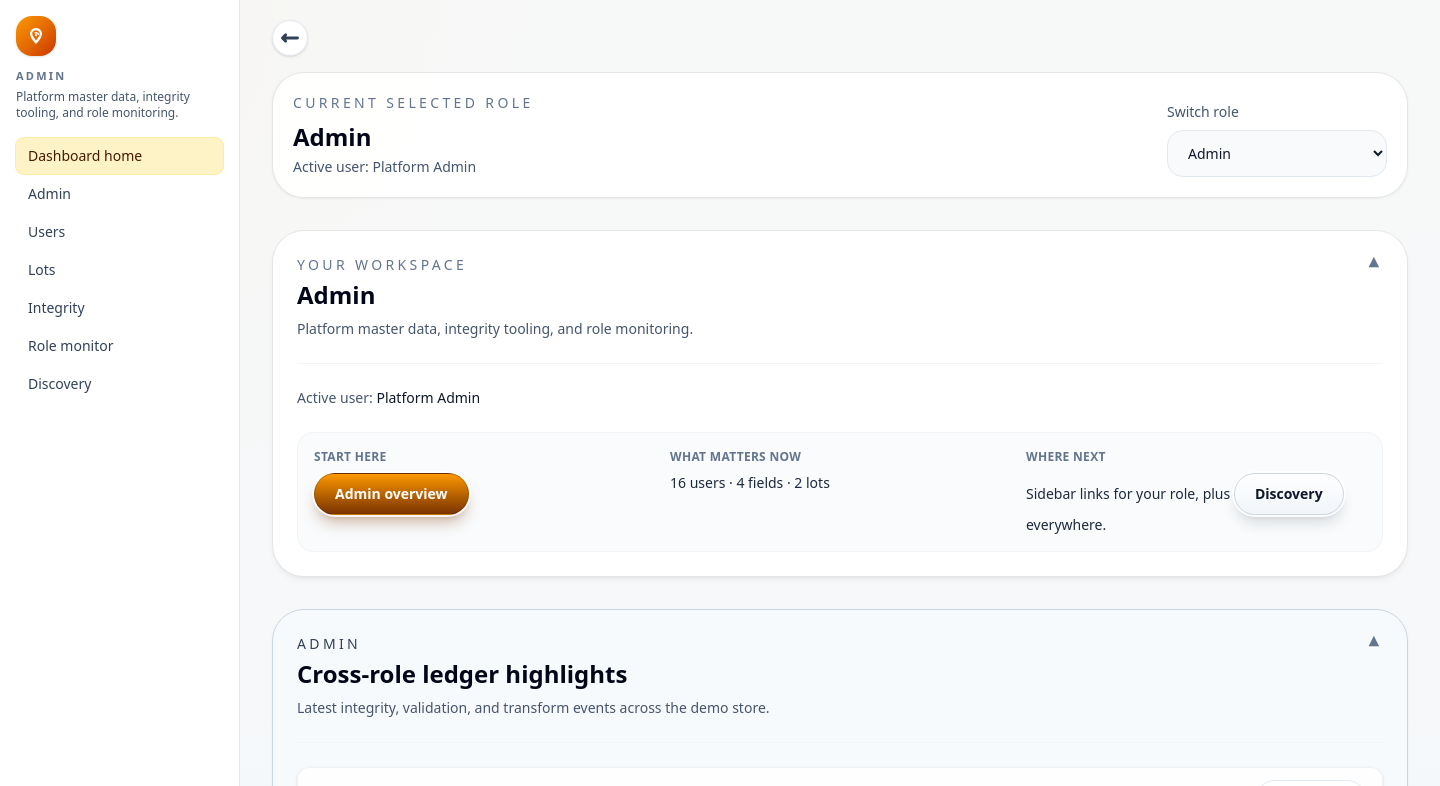
Test case: HomeDashboard role switching › keeps regulator dashboards read-only
This screenshot has width=1440, height=786.
Select "regulator" in the dropdown labelled "Switch role". click: (1277, 154)
box: [1167,130,1387,177]
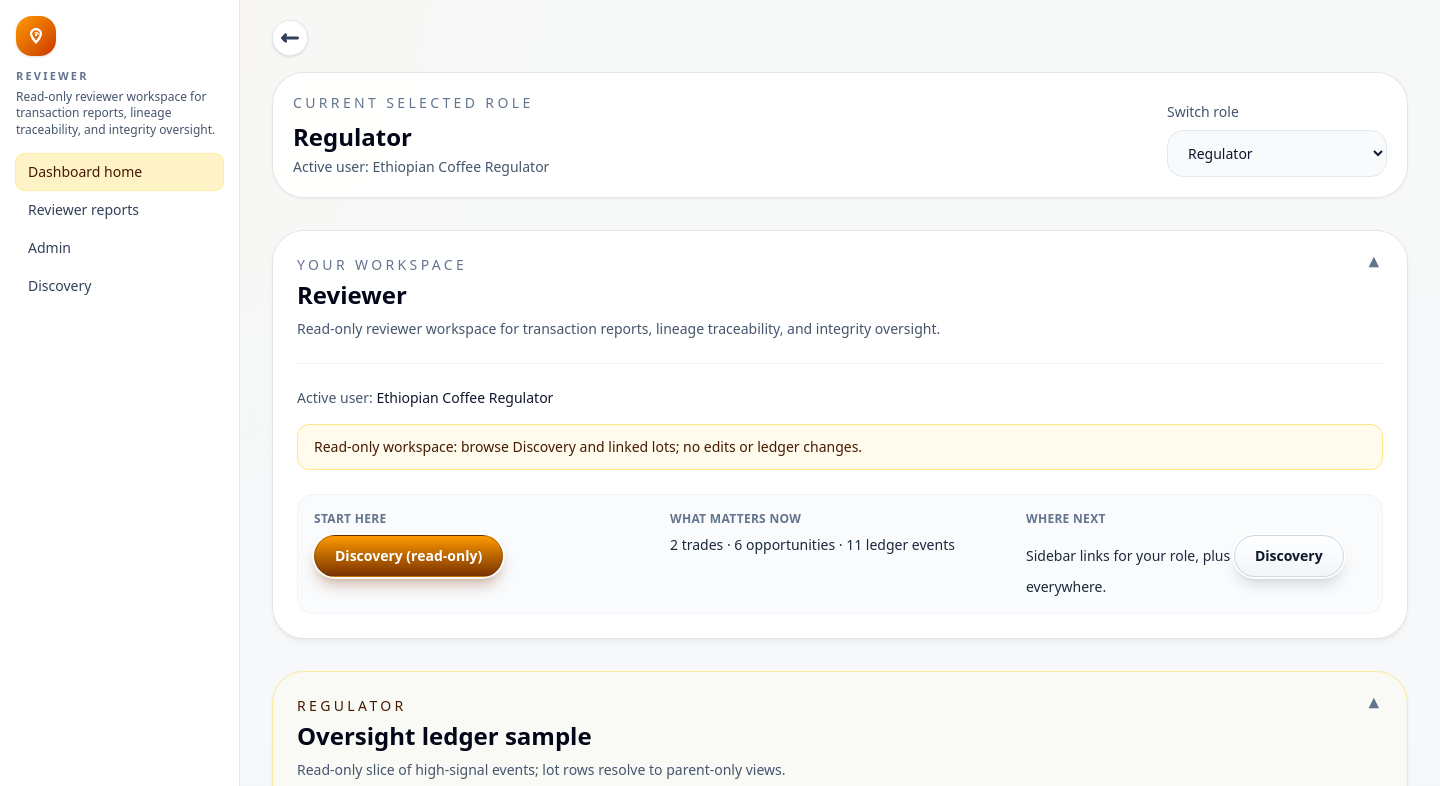
Now the text "Read-only workspace" is shown, box [314,437,862,456]
Now the link "Admin overview" is gone
